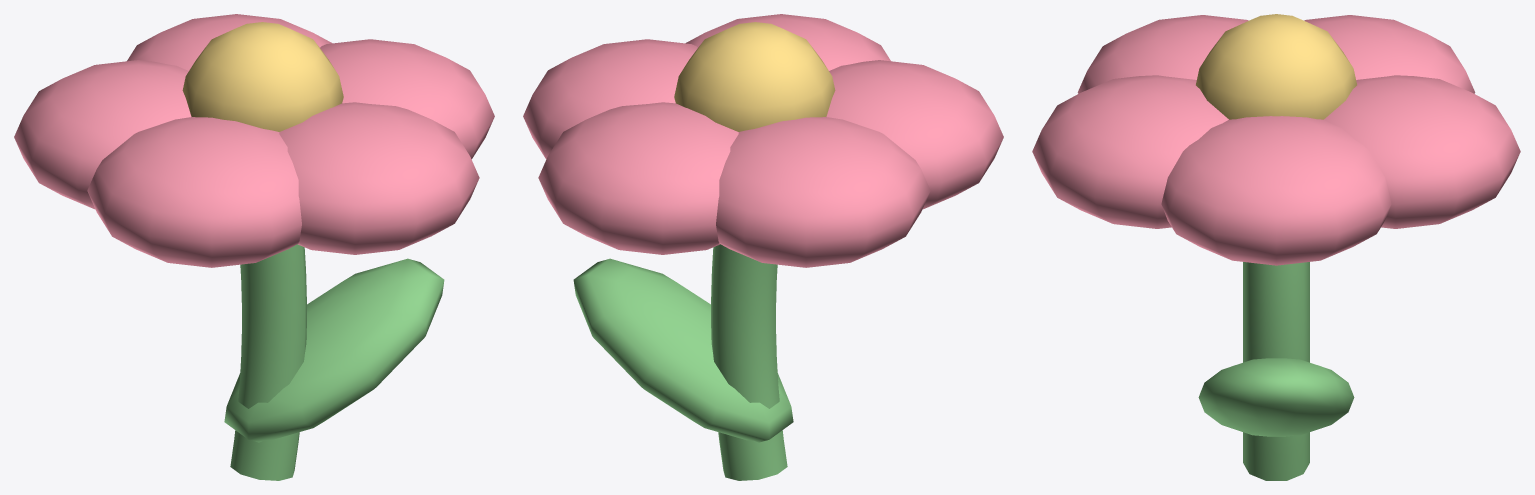
The model's file is flower.glb.
The picture shows the model from 3 angles, left to right: view 1: azimuth 30°, elevation 25°; view 2: azimuth 150°, elevation 25°; view 3: azimuth 270°, elevation 25°; orthographic projection.
Visible parts, largest first — view 1: petal, c8ccf8a, heart; view 2: petal, c8ccf8a, heart; view 3: petal, c8ccf8a, heart.
Part boxes in pixels (x1,y1,x2,y2): petal: (14,14,494,267); c8ccf8a: (224,244,444,480); heart: (182,22,343,131); petal: (523,14,1003,267); c8ccf8a: (573,244,793,480); heart: (674,22,835,131); petal: (1032,15,1520,265); c8ccf8a: (1198,262,1354,480); heart: (1196,14,1356,119).
Size of the model in its own units: 0.1714 by 0.1769 by 0.1756.
